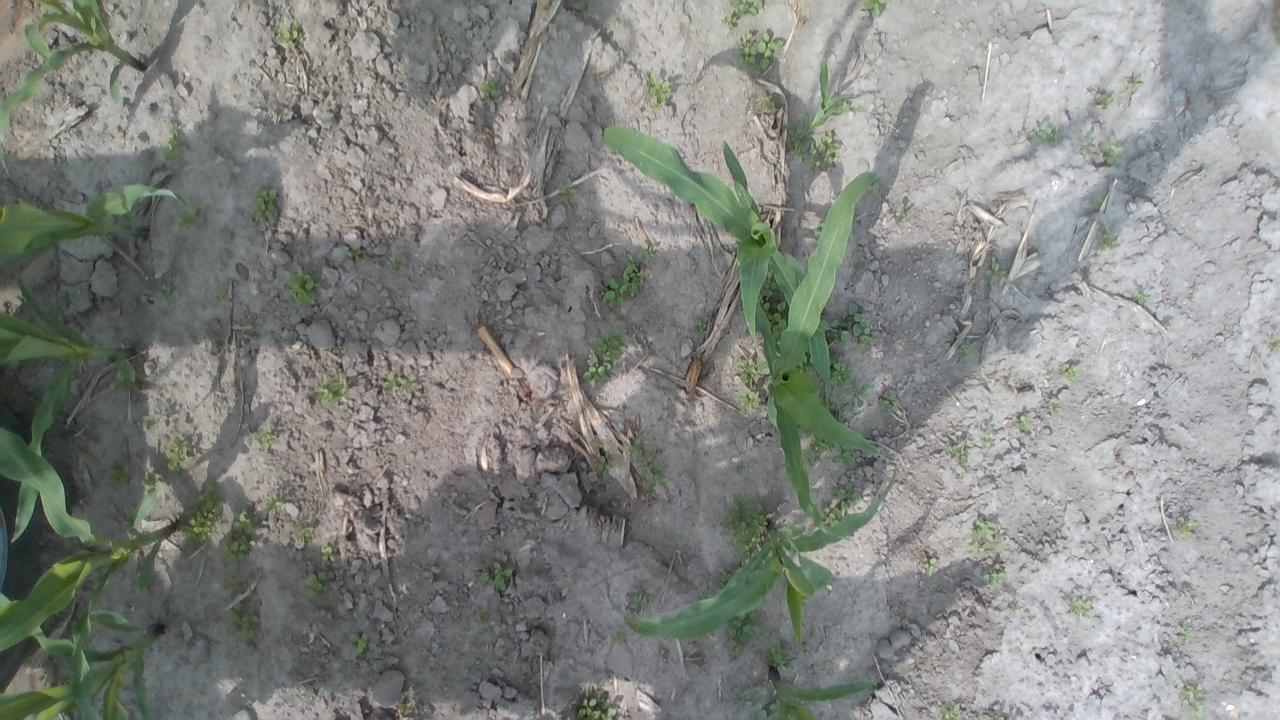Maize: (600, 121, 834, 411), (730, 169, 900, 549), (601, 460, 900, 658), (1, 426, 180, 717), (0, 279, 141, 546), (3, 550, 165, 718), (0, 0, 150, 175), (0, 180, 197, 286), (734, 659, 880, 720)
Weeds: (717, 570, 768, 662), (603, 241, 658, 310), (721, 498, 773, 560), (223, 579, 263, 648), (578, 330, 624, 389), (756, 274, 792, 346), (832, 362, 874, 421), (739, 27, 790, 74), (816, 480, 868, 526), (183, 484, 220, 548), (730, 358, 771, 414), (801, 435, 859, 472), (100, 458, 150, 500), (837, 300, 875, 352), (304, 544, 337, 600), (225, 508, 258, 564), (795, 132, 842, 169), (969, 517, 1006, 560), (286, 272, 320, 314), (1022, 118, 1062, 151), (720, 0, 766, 28), (1174, 680, 1206, 720), (475, 560, 512, 594), (626, 588, 663, 622), (633, 454, 666, 491), (312, 374, 348, 406), (572, 698, 620, 720), (252, 188, 280, 223), (644, 73, 672, 106), (164, 437, 190, 472), (175, 204, 208, 230), (166, 118, 184, 164), (383, 371, 424, 391), (276, 19, 304, 48), (1100, 133, 1124, 165), (979, 562, 1006, 589), (475, 81, 504, 106), (946, 441, 971, 470), (1092, 228, 1120, 253), (1044, 359, 1079, 379), (982, 257, 1006, 285), (858, 0, 886, 23), (1072, 594, 1096, 620), (770, 640, 794, 662), (352, 634, 378, 654), (557, 179, 576, 206), (158, 284, 180, 307), (1173, 518, 1199, 537), (752, 702, 779, 720), (1093, 90, 1113, 114), (1124, 73, 1144, 96), (877, 388, 897, 411), (254, 429, 274, 450), (384, 252, 408, 269), (1080, 134, 1100, 154), (1042, 391, 1060, 413), (688, 310, 702, 338), (920, 556, 939, 576), (981, 428, 996, 453), (264, 495, 282, 515), (936, 704, 960, 718), (300, 527, 318, 545), (1132, 289, 1150, 306), (1267, 334, 1280, 357), (1016, 414, 1033, 431), (474, 612, 489, 630), (958, 344, 972, 362), (138, 416, 160, 426), (756, 95, 773, 105), (1180, 628, 1192, 642)
